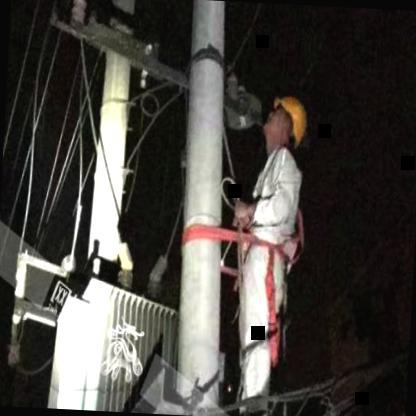helmet: (260, 92, 309, 156)
